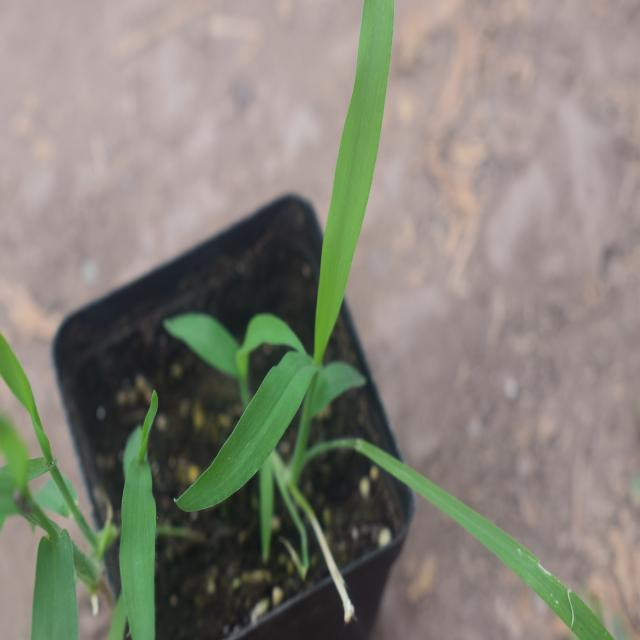crabgrass: (170, 15, 438, 514), (0, 378, 181, 640)
